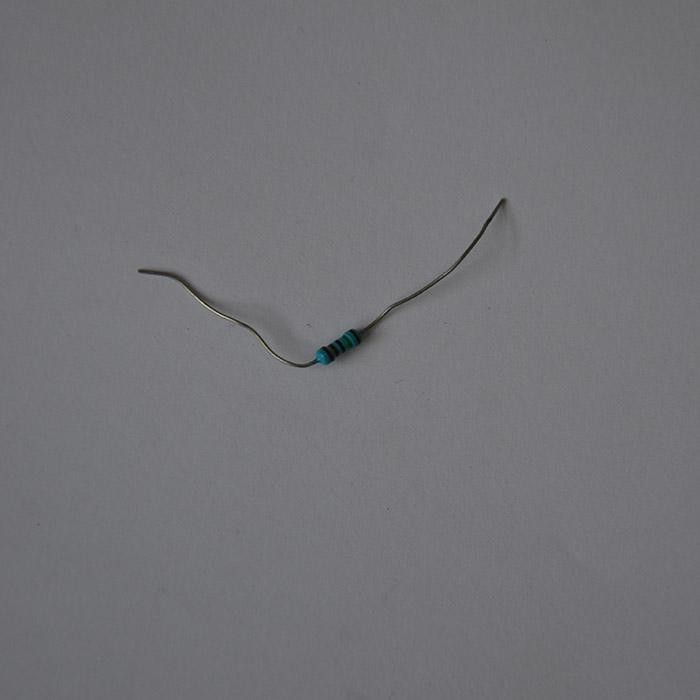resistor: (314, 328, 361, 364)
